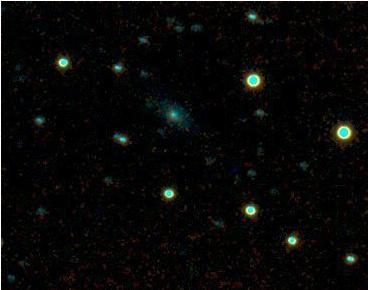star: (227, 155, 257, 185)
